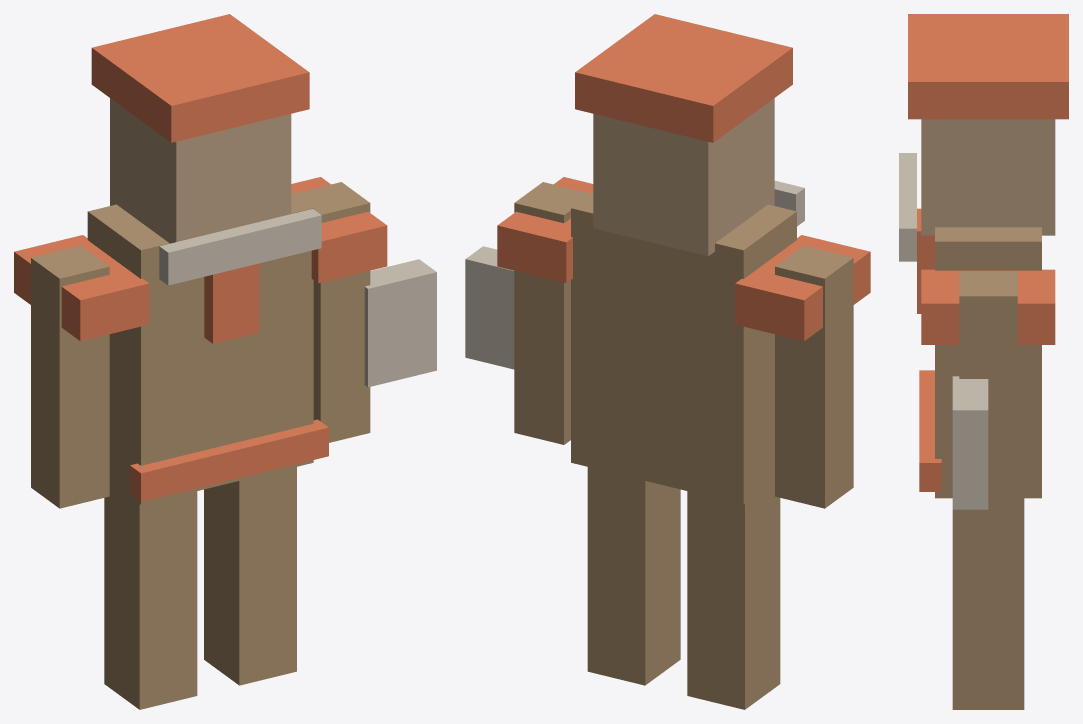
Rendered from 07_lio_gearmantle_fixer_of_avalanche.glb.
3 views of the same model, side by side, from view 1: azimuth 30°, elevation 25°; view 2: azimuth 150°, elevation 25°; view 3: azimuth 270°, elevation 25° (orthographic).
Visible parts, largest first — view 1: Lio Gearmantle, Fixer of Avalanche; view 2: Lio Gearmantle, Fixer of Avalanche; view 3: Lio Gearmantle, Fixer of Avalanche.
Boxes of the visible parts, left/top/right/bottom form: Lio Gearmantle, Fixer of Avalanche: left=14, top=14, right=436, bottom=709; Lio Gearmantle, Fixer of Avalanche: left=465, top=14, right=870, bottom=709; Lio Gearmantle, Fixer of Avalanche: left=899, top=14, right=1068, bottom=709.
Size of the model in its own units: 0.9193 by 1.45 by 0.3583.
